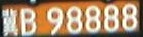B: (20, 8, 37, 36)
